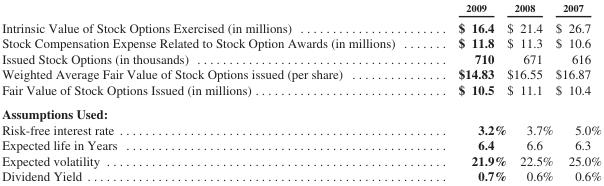table: (1, 1, 601, 183)
table column: (1, 1, 426, 183), (426, 1, 506, 183), (553, 1, 601, 183), (506, 1, 553, 183)
table column header: (1, 1, 601, 16)
table projected row header: (1, 101, 601, 121)
table row: (1, 81, 601, 101), (1, 101, 601, 121), (1, 16, 601, 34), (1, 34, 601, 50), (1, 65, 601, 81), (1, 121, 601, 137), (1, 152, 601, 168), (1, 1, 601, 16), (1, 50, 601, 65), (1, 137, 601, 152), (1, 168, 601, 183)
